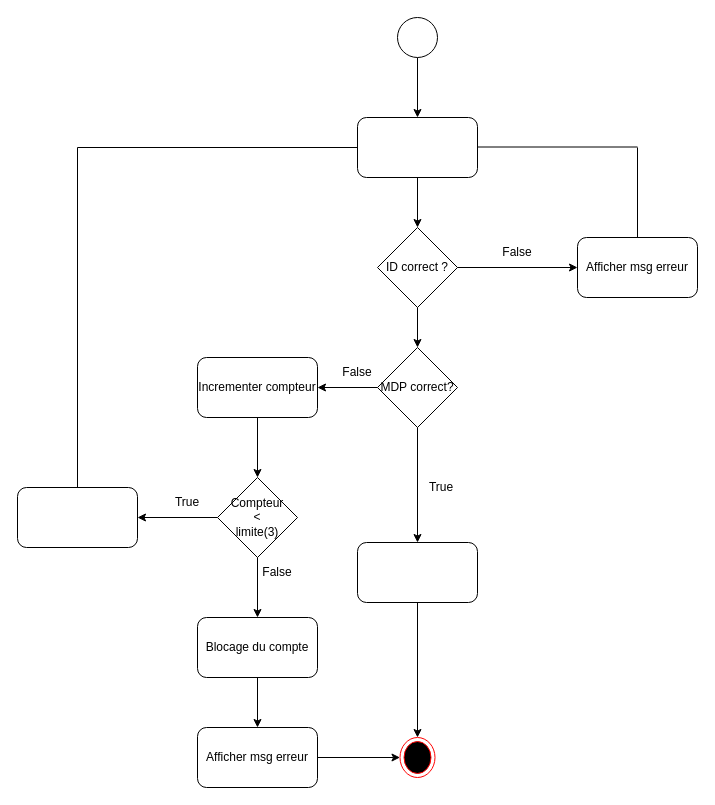
The diagram is 715 pixels wide and 805 high, and some of its shapes have lost their labels. The shapes that lost their labels are listed below. From the top down, each one's centre as x and y in pixels, then its label:
At (417,147): "Client saisi id & mdp".
At (77,517): "Retour saisie".
At (417,572): "Connexion OK Compteur 0".
